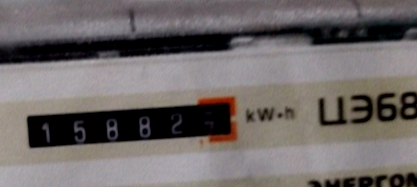1: (38, 119, 54, 145)
2: (168, 110, 184, 134)
5: (70, 116, 88, 143)
7: (201, 116, 216, 136)
8: (103, 115, 121, 142), (136, 112, 152, 138)
screen: (11, 87, 247, 163)
